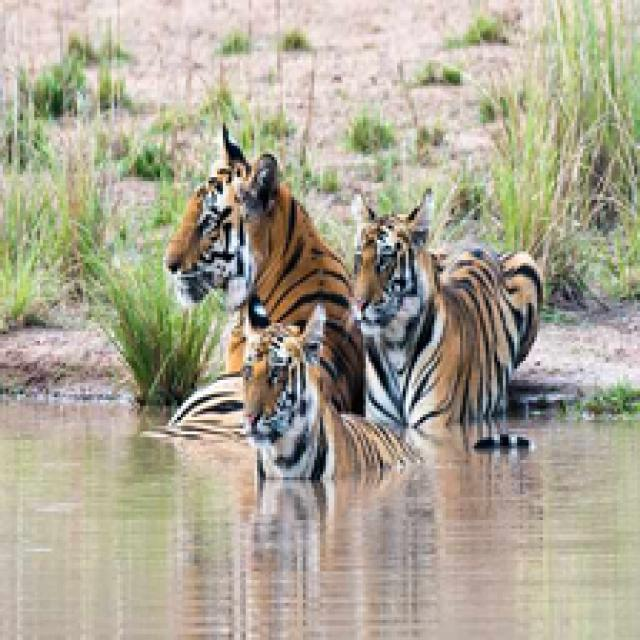tiger: (150, 142, 380, 458), (336, 178, 552, 448), (227, 305, 432, 517)
